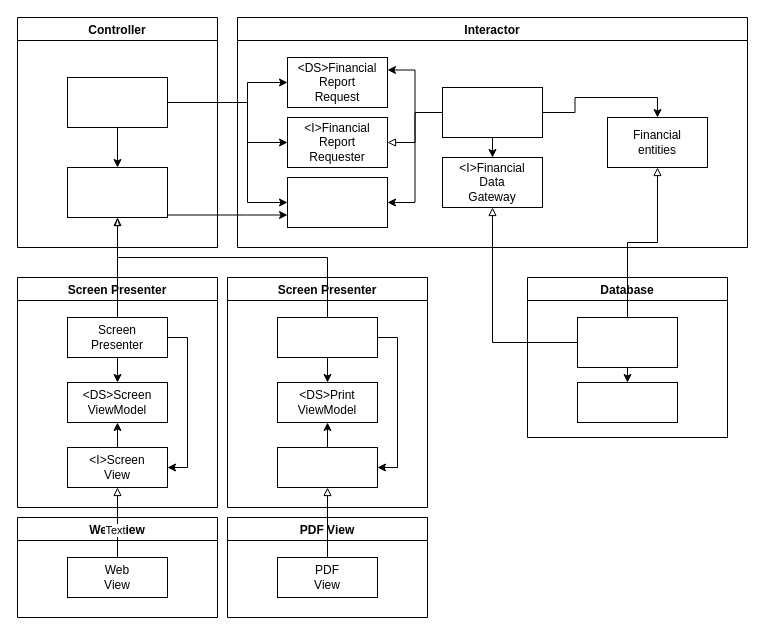
Image size: 765x635. Some labels were removed from this diagram. The centre of each missing label's shape, as x and y in pixels:
"<DS>Financial Report Response" belongs at pixel 337 202.
"<I>Financial Report Presenter" belongs at pixel 117 192.
"<I>Print View" belongs at pixel 327 467.
"Financial Data Mapper" belongs at pixel 627 342.
"Financial DB" belongs at pixel 627 402.
"Financial Report Controller" belongs at pixel 117 102.
"Financial Report Generator" belongs at pixel 492 112.
"Print Presenter" belongs at pixel 327 337.
